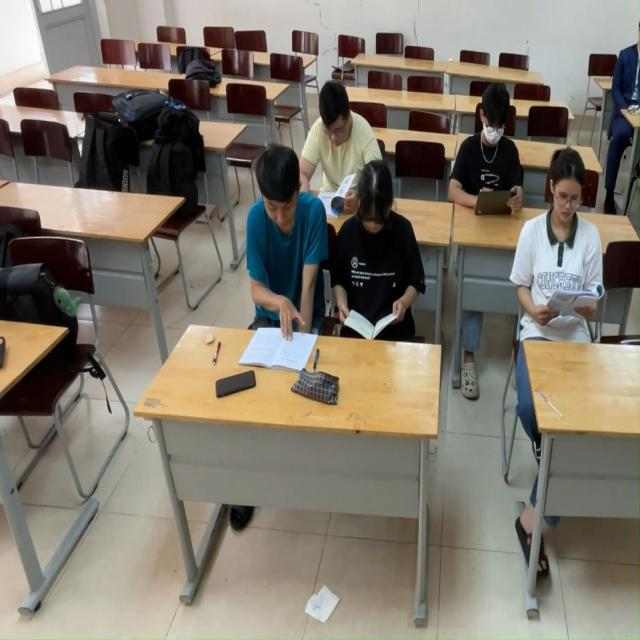read: (515, 152, 620, 367), (325, 157, 431, 354), (245, 153, 331, 375), (457, 93, 538, 235), (304, 69, 367, 209)
